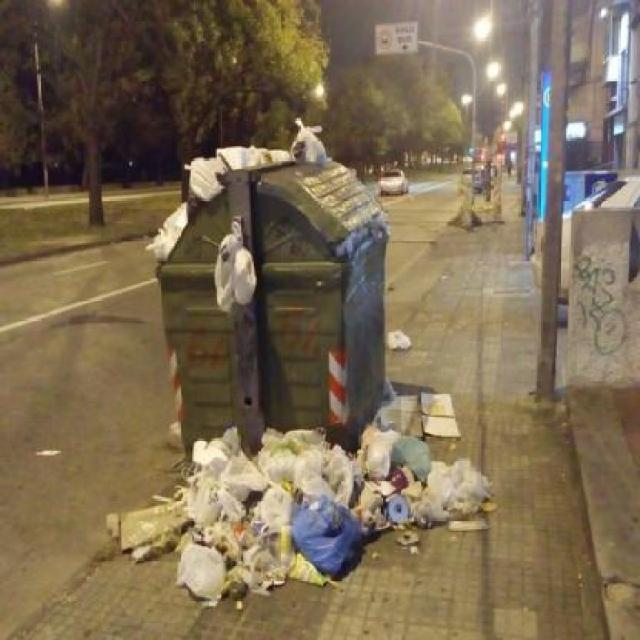garbage: (97, 426, 381, 598), (360, 398, 482, 530), (173, 132, 346, 184), (205, 217, 265, 320), (143, 200, 202, 247)
